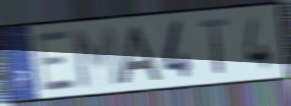4: (161, 17, 197, 83), (244, 14, 275, 72)
A: (118, 24, 163, 87)
E: (34, 28, 78, 94)
M: (69, 24, 124, 90)
T: (199, 16, 231, 76)
